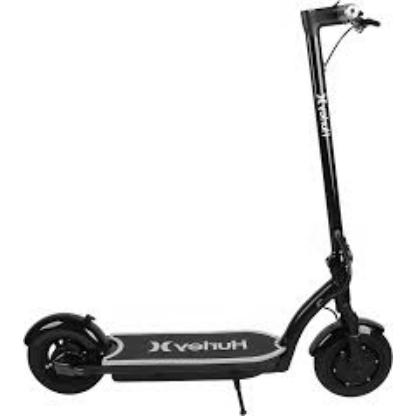bike: (2, 3, 395, 415), (15, 230, 394, 415)
